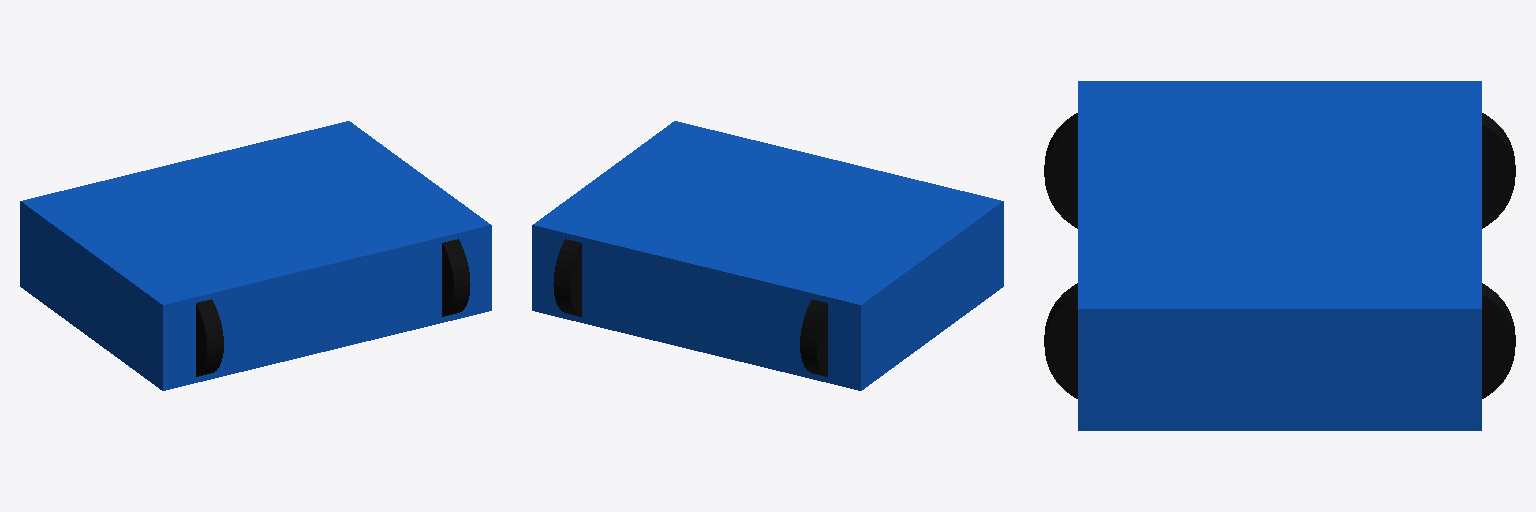
URDF robot description (mecanum_robot):
<?xml version="1.0"?>
<robot name="mecanum_robot">
  <!-- Materials -->
  <material name="chassis_color">
    <color rgba="0.1 0.4 0.8 1.0"/>
  </material>
  <material name="wheel_color">
    <color rgba="0.1 0.1 0.1 1.0"/>
  </material>

  <!-- Base link: simple box (root of the tree) -->
  <link name="base_link">
    <visual>
      <origin xyz="0 0 0.05" rpy="0 0 0"/>
      <geometry>
        <box size="0.40 0.30 0.10"/>
      </geometry>
      <material name="chassis_color"/>
    </visual>
    <collision>
      <origin xyz="0 0 0.05" rpy="0 0 0"/>
      <geometry>
        <box size="0.40 0.30 0.10"/>
      </geometry>
    </collision>
  </link>

  <!-- Wheels: simple cylinders for fast loading -->
  <link name="wheel_fl">
    <visual>
      <origin xyz="0 0 0" rpy="0 1.5708 0"/>
      <geometry>
        <cylinder radius="0.05" length="0.02"/>
      </geometry>
      <material name="wheel_color"/>
    </visual>
    <collision>
      <origin xyz="0 0 0" rpy="0 1.5708 0"/>
      <geometry>
        <cylinder radius="0.05" length="0.02"/>
      </geometry>
    </collision>
  </link>

  <link name="wheel_fr">
    <visual>
      <origin xyz="0 0 0" rpy="0 1.5708 0"/>
      <geometry>
        <cylinder radius="0.05" length="0.02"/>
      </geometry>
      <material name="wheel_color"/>
    </visual>
    <collision>
      <origin xyz="0 0 0" rpy="0 1.5708 0"/>
      <geometry>
        <cylinder radius="0.05" length="0.02"/>
      </geometry>
    </collision>
  </link>

  <link name="wheel_rr">
    <visual>
      <origin xyz="0 0 0" rpy="0 1.5708 0"/>
      <geometry>
        <cylinder radius="0.05" length="0.02"/>
      </geometry>
      <material name="wheel_color"/>
    </visual>
    <collision>
      <origin xyz="0 0 0" rpy="0 1.5708 0"/>
      <geometry>
        <cylinder radius="0.05" length="0.02"/>
      </geometry>
    </collision>
  </link>

  <link name="wheel_rl">
    <visual>
      <origin xyz="0 0 0" rpy="0 1.5708 0"/>
      <geometry>
        <cylinder radius="0.05" length="0.02"/>
      </geometry>
      <material name="wheel_color"/>
    </visual>
    <collision>
      <origin xyz="0 0 0" rpy="0 1.5708 0"/>
      <geometry>
        <cylinder radius="0.05" length="0.02"/>
      </geometry>
    </collision>
  </link>

  <!-- Wheel joints (fixed for visualization) -->
  <!-- Positions match default mecanum geometry: wheel_base_x=0.30m, wheel_base_y=0.25m -->
  <joint name="wheel_fl_joint" type="continuous">
    <origin xyz="0.15 0.125 0.05" rpy="0 0 0"/>
    <axis xyz="0 1 0"/>
    <parent link="base_link"/>
    <child link="wheel_fl"/>
  </joint>

  <joint name="wheel_fr_joint" type="continuous">
    <origin xyz="0.15 -0.125 0.05" rpy="0 0 0"/>
    <axis xyz="0 1 0"/>
    <parent link="base_link"/>
    <child link="wheel_fr"/>
  </joint>

  <joint name="wheel_rr_joint" type="continuous">
    <origin xyz="-0.15 -0.125 0.05" rpy="0 0 0"/>
    <axis xyz="0 1 0"/>
    <parent link="base_link"/>
    <child link="wheel_rr"/>
  </joint>

  <joint name="wheel_rl_joint" type="continuous">
    <origin xyz="-0.15 0.125 0.05" rpy="0 0 0"/>
    <axis xyz="0 1 0"/>
    <parent link="base_link"/>
    <child link="wheel_rl"/>
  </joint>
</robot>

--- Render facts (derived) ---
Views: 3 orthographic renders of the robot side by side, from view 1: azimuth 30°, elevation 25°; view 2: azimuth 150°, elevation 25°; view 3: azimuth 270°, elevation 25°.
Robot: mecanum_robot — 5 links, 4 joints (4 continuous); root link base_link; default pose: all joints at 0.
Links seen in each view (by area): view 1: base_link, wheel_fr, wheel_rr; view 2: base_link, wheel_fl, wheel_rl; view 3: base_link, wheel_fl, wheel_fr, wheel_rr, wheel_rl.
Link boxes in pixels (x1,y1,x2,y2): base_link: (20,121,491,390); wheel_fr: (442,239,470,316); wheel_rr: (196,299,223,376); base_link: (532,121,1003,390); wheel_fl: (553,239,581,316); wheel_rl: (800,299,827,376); base_link: (1078,81,1481,430); wheel_fl: (1482,283,1515,398); wheel_fr: (1044,283,1077,398); wheel_rr: (1044,113,1077,228); wheel_rl: (1482,113,1515,228).
Size in the robot's own frame: 0.4 by 0.35 by 0.1 metres.
Geometry: primitives only (box / cylinder / sphere), no mesh files.
